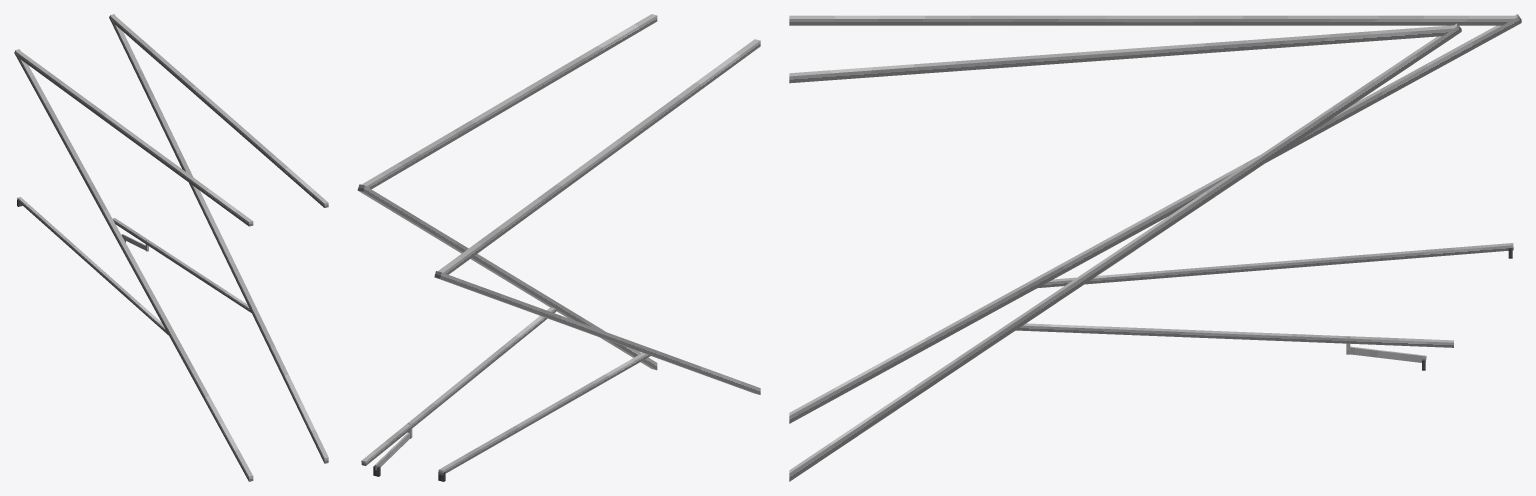
The model's file is cantilever_inner_16px.obj.
The picture shows the model from 3 angles, left to right: view 1: azimuth 30°, elevation 25°; view 2: azimuth 150°, elevation 25°; view 3: azimuth 270°, elevation 25°; orthographic projection. The views are drawn at different scales.
Parts seen in each view (by area): view 1: aef8a24d-054b-4f71-8e0b-16325cf0f170, 977bb27c-59d1-4e99-a4ec-b0efd025ab84, d9e786c2-0021-4ed3-9c31-99efbc82960a, 921ff8fe-5a8c-48b0-aa8d-34d36cb9a980, 9a326da1-cea6-4d2d-8652-9ba56c93be09, 164fad88-d8d2-4e67-84ac-176b9d701beb; view 2: d9e786c2-0021-4ed3-9c31-99efbc82960a, 921ff8fe-5a8c-48b0-aa8d-34d36cb9a980, aef8a24d-054b-4f71-8e0b-16325cf0f170, 977bb27c-59d1-4e99-a4ec-b0efd025ab84, 9a326da1-cea6-4d2d-8652-9ba56c93be09, 164fad88-d8d2-4e67-84ac-176b9d701beb; view 3: 977bb27c-59d1-4e99-a4ec-b0efd025ab84, d9e786c2-0021-4ed3-9c31-99efbc82960a, aef8a24d-054b-4f71-8e0b-16325cf0f170, 921ff8fe-5a8c-48b0-aa8d-34d36cb9a980, 9a326da1-cea6-4d2d-8652-9ba56c93be09, 164fad88-d8d2-4e67-84ac-176b9d701beb.
Part boxes in pixels (x1,y1,x2,y2): aef8a24d-054b-4f71-8e0b-16325cf0f170: (14,49,253,481); 977bb27c-59d1-4e99-a4ec-b0efd025ab84: (109,14,328,463); d9e786c2-0021-4ed3-9c31-99efbc82960a: (16,51,253,226); 921ff8fe-5a8c-48b0-aa8d-34d36cb9a980: (111,16,328,207); 9a326da1-cea6-4d2d-8652-9ba56c93be09: (17,197,168,335); 164fad88-d8d2-4e67-84ac-176b9d701beb: (112,218,251,312); d9e786c2-0021-4ed3-9c31-99efbc82960a: (438,39,760,274); 921ff8fe-5a8c-48b0-aa8d-34d36cb9a980: (362,14,657,189); aef8a24d-054b-4f71-8e0b-16325cf0f170: (434,271,760,394); 977bb27c-59d1-4e99-a4ec-b0efd025ab84: (357,184,657,370); 9a326da1-cea6-4d2d-8652-9ba56c93be09: (438,353,651,475); 164fad88-d8d2-4e67-84ac-176b9d701beb: (361,307,557,465); 977bb27c-59d1-4e99-a4ec-b0efd025ab84: (789,23,1461,481); d9e786c2-0021-4ed3-9c31-99efbc82960a: (789,15,1514,25); aef8a24d-054b-4f71-8e0b-16325cf0f170: (789,14,1521,423); 921ff8fe-5a8c-48b0-aa8d-34d36cb9a980: (789,25,1453,83); 9a326da1-cea6-4d2d-8652-9ba56c93be09: (1037,243,1513,288); 164fad88-d8d2-4e67-84ac-176b9d701beb: (1016,323,1453,347).
Bounding box in the file's own units: 1.19 × 4.16 × 6.06.
